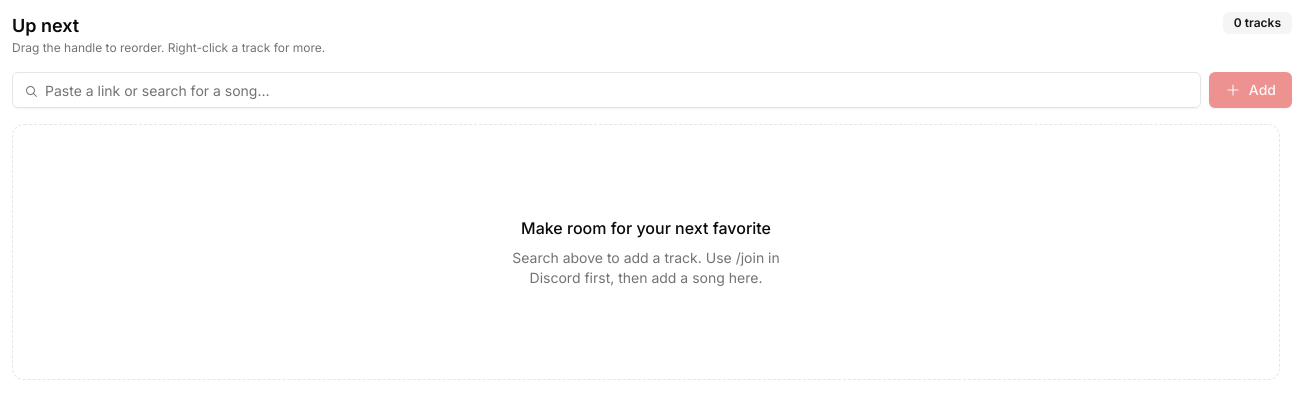
Test: shows selectable suggestions below Up next and queues the selected URL
In the dropdown named "Track URL or search query": (606, 90) [12,72,1201,108], type "suggested"
Wait 500 ms
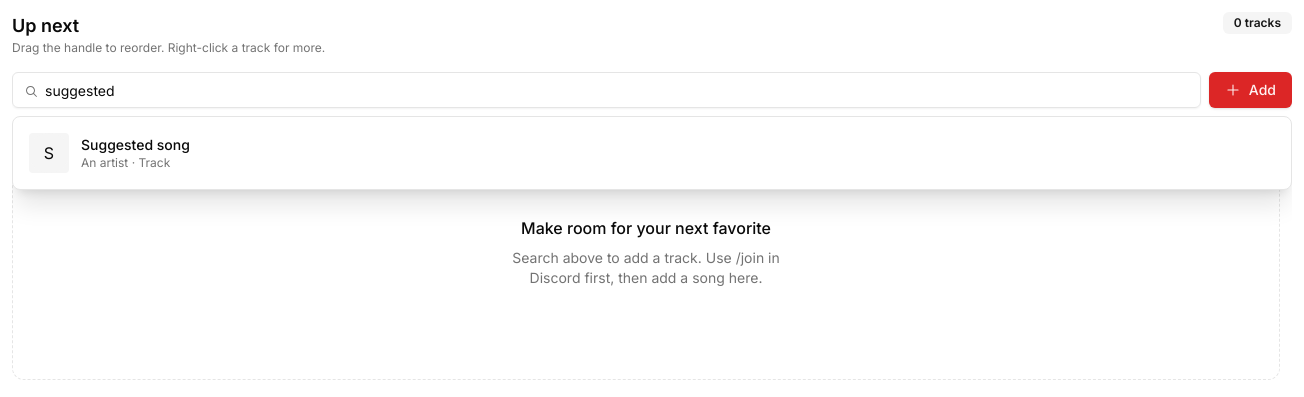
Click the option "S Suggested song An artist · Track": (49, 153) [21,125,1283,181]
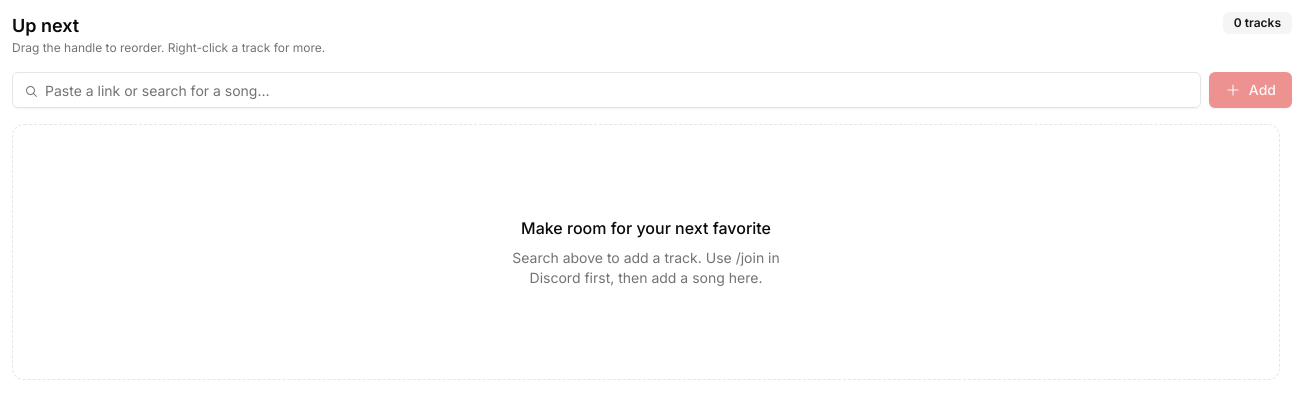
Now the dropdown named "Track URL or search query" is empty, box [12,72,1201,108]
